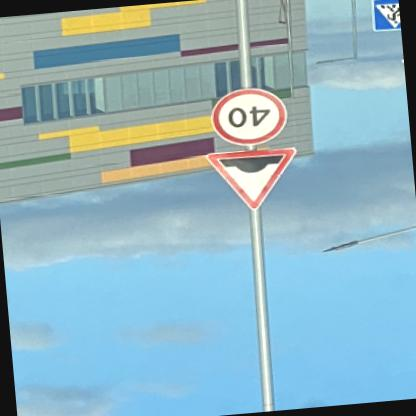crosswalk: (371, 0, 401, 36)
speedlimit: (210, 86, 292, 148)
